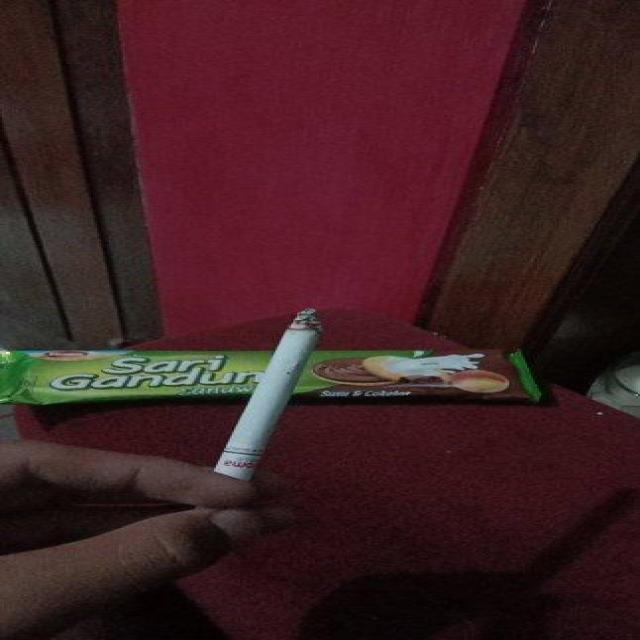rokok: (215, 304, 327, 476)
